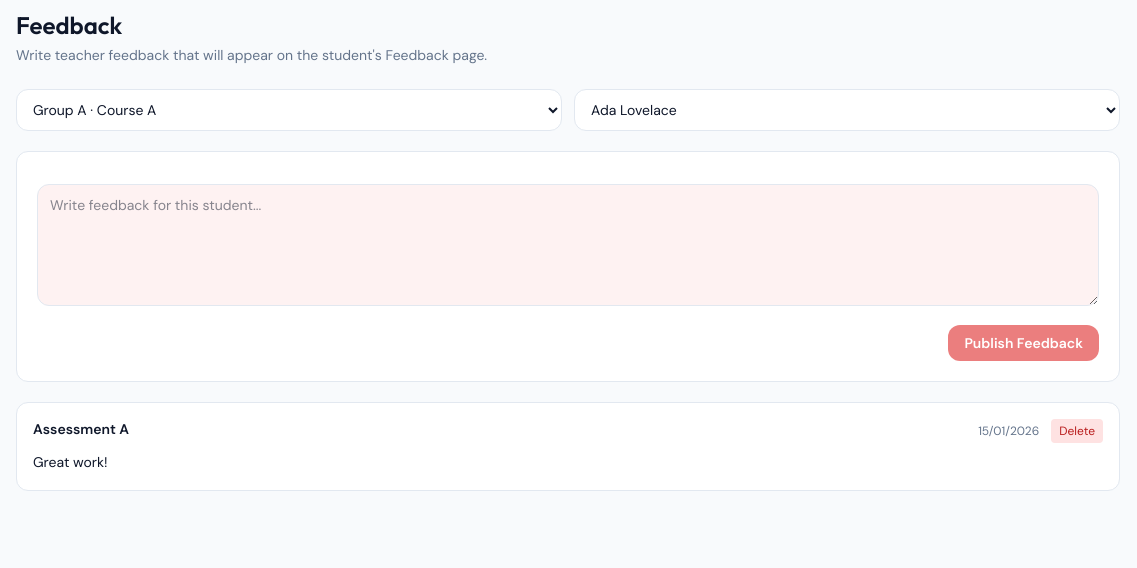
it: TeacherFeedback › shows an error message when publishing fails
Type "x" into the text box with placeholder "Write feedback for this student...". click: (568, 245)
box: [37,184,1099,306]
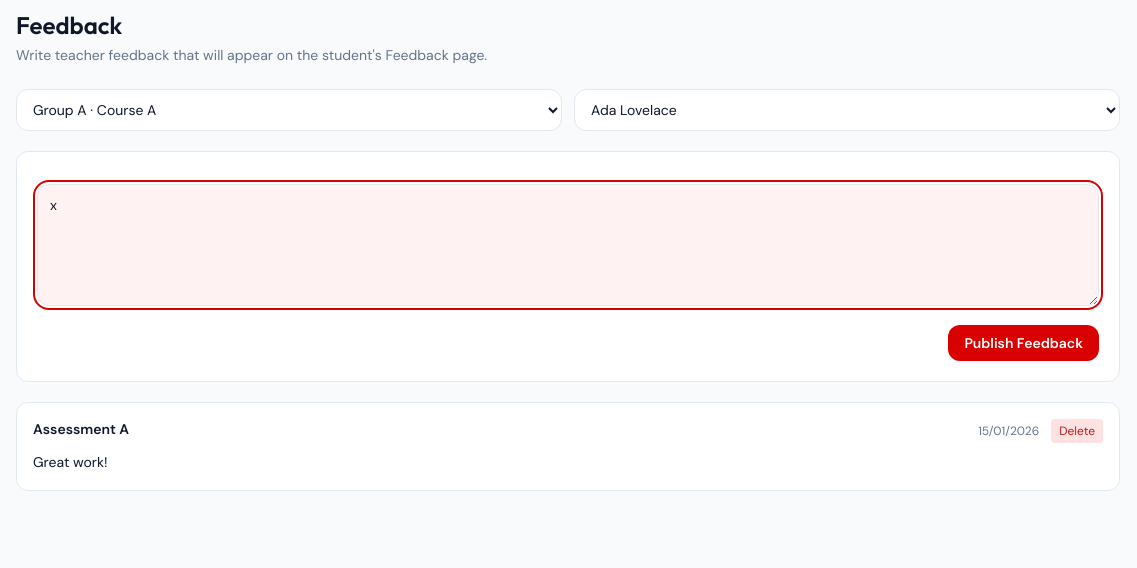
Click the button "Publish Feedback". click: (1024, 343)
box: [948,325,1099,361]
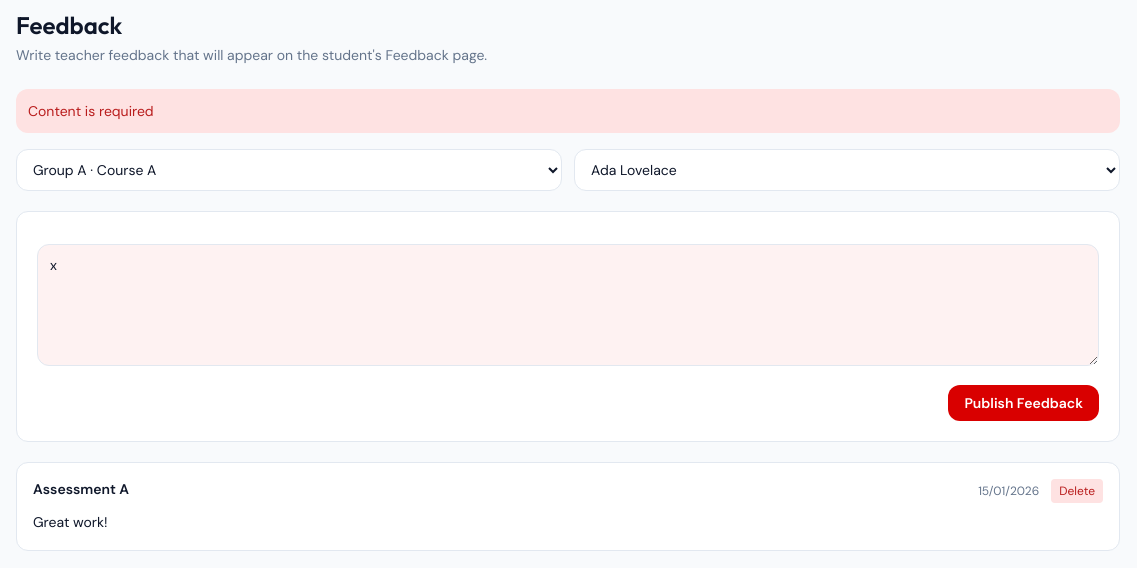
expect the text "Content is required" is shown: met, box [16,89,1120,133]
